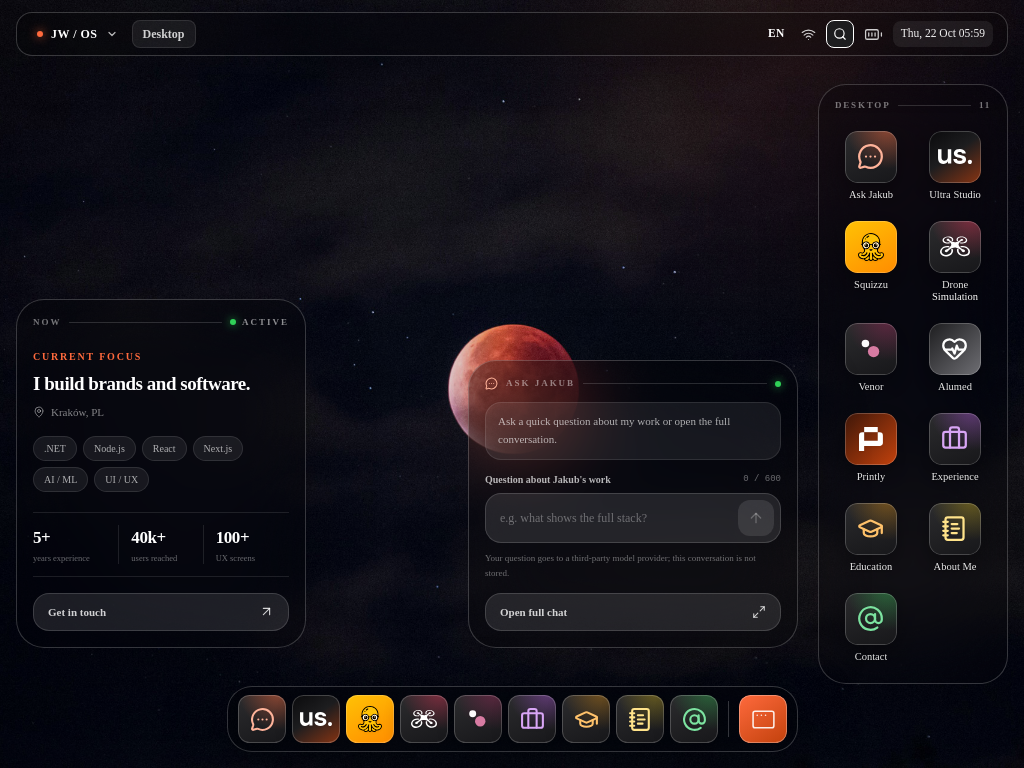
it: Ask Jakub Desktop Mode lifecycle › cancels an active question from the widget
The width and height of the screenshot is (1024, 768).
In the field labelled "Question about Jakub's work": (611, 518) [492,500,730,536], type "What did Jakub build at Squizzu?"
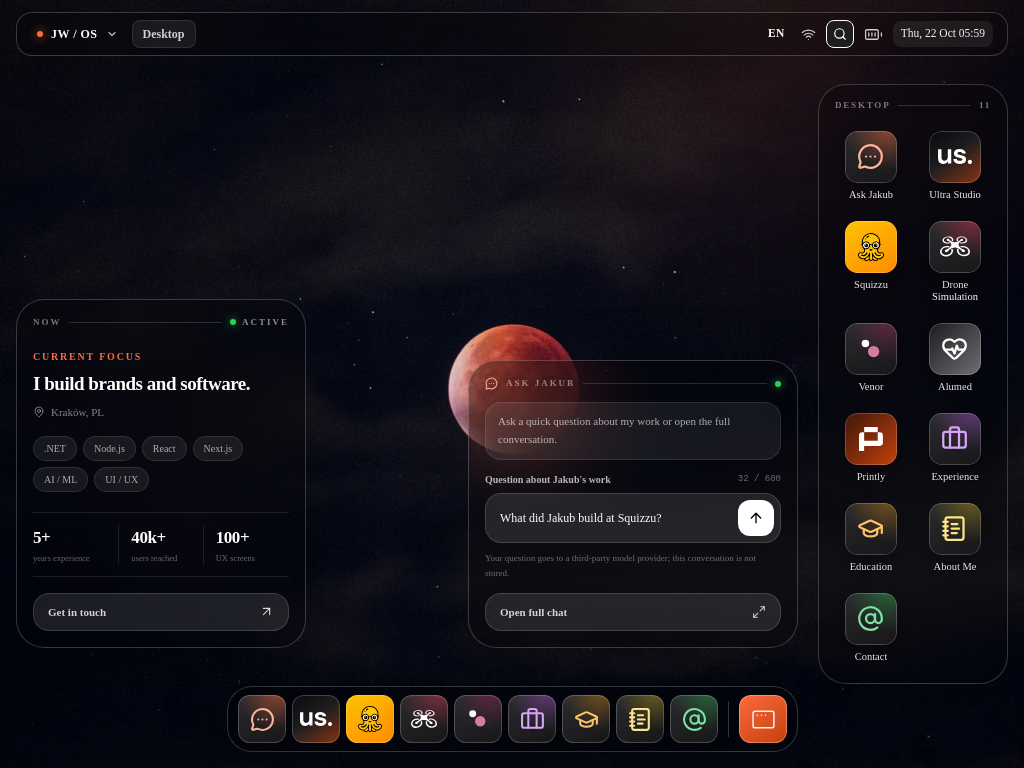
Click the button named "Ask": (756, 518) [738,500,774,536]
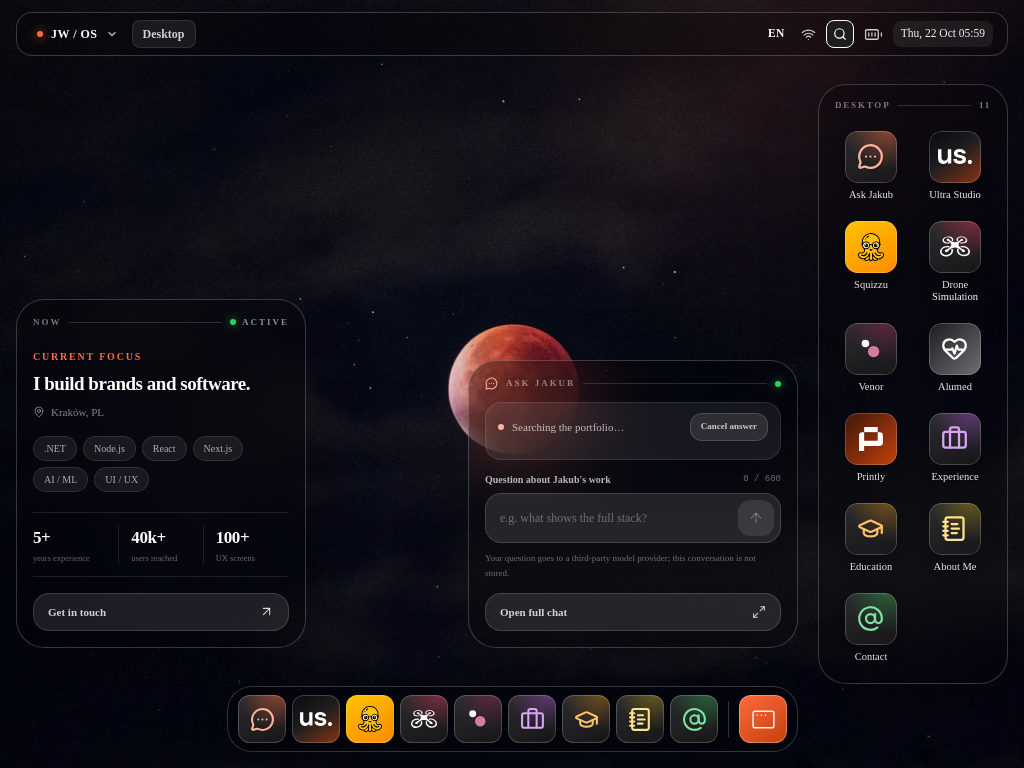
Click the button "Cancel answer": (729, 427) [690,413,768,441]
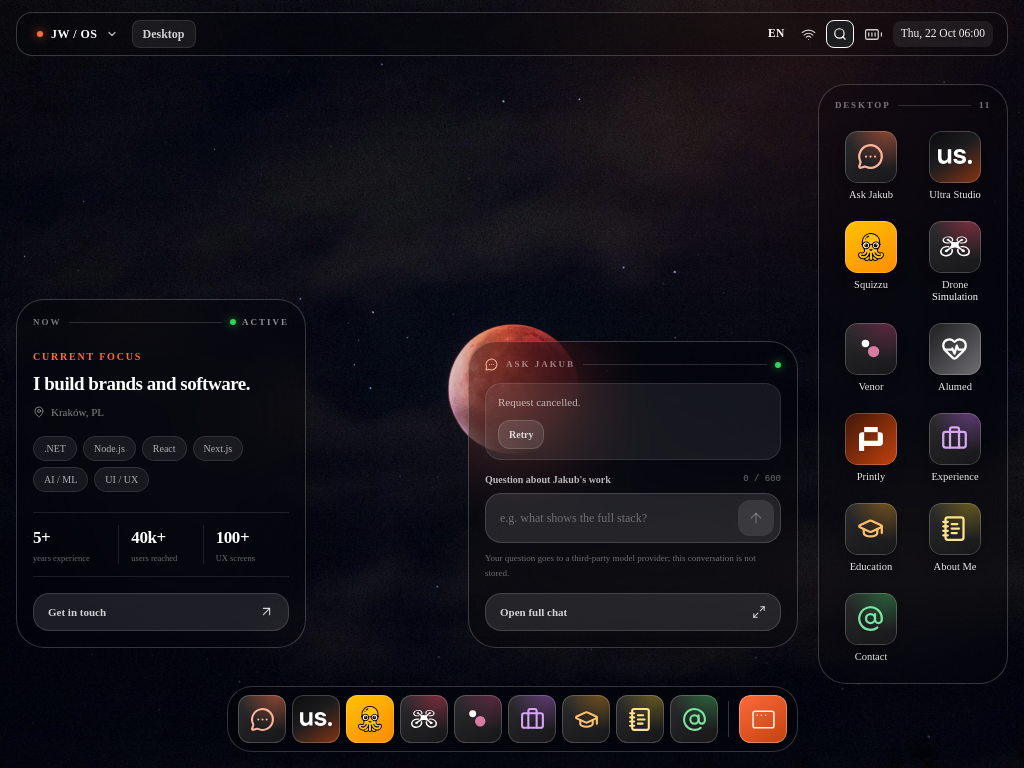
Expected: the element named "Ask Jakub quick chat" shows "Request cancelled.", [498,396,580,408]
Expected: the button "Retry" is shown, [498,420,544,449]
